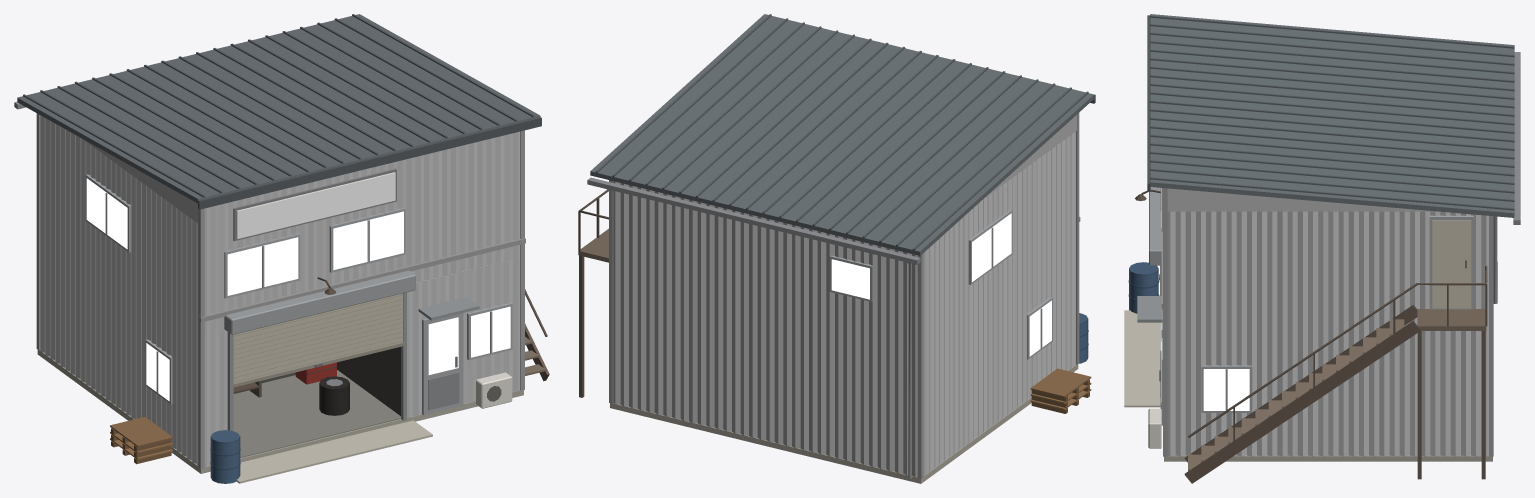
The model's file is building_workshop_01.glb.
3 renders of one model, left to right at view 1: azimuth 30°, elevation 25°; view 2: azimuth 150°, elevation 25°; view 3: azimuth 270°, elevation 25°, orthographic. The views are drawn at different scales.
Visible parts, largest first — view 1: building_workshop_01; view 2: building_workshop_01; view 3: building_workshop_01.
Boxes of the visible parts, x1,y1,x2,y2 form: building_workshop_01: (14,14,549,483); building_workshop_01: (578,14,1095,483); building_workshop_01: (1124,14,1520,483).
Size of the model in its own units: 9.03 by 6.25 by 7.74.
